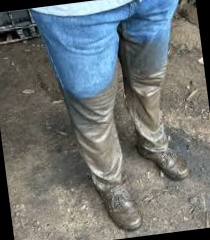earth: (71, 96, 121, 181), (128, 75, 167, 154), (125, 41, 165, 79)
